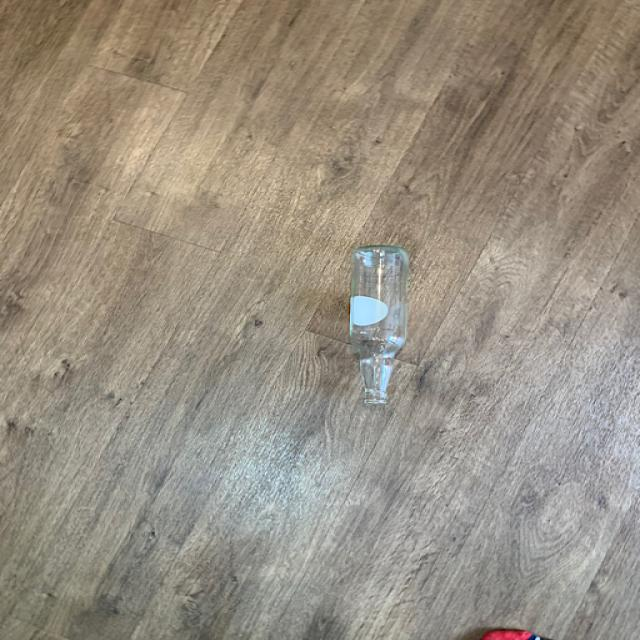Glass Bottle: (343, 234, 408, 404)
